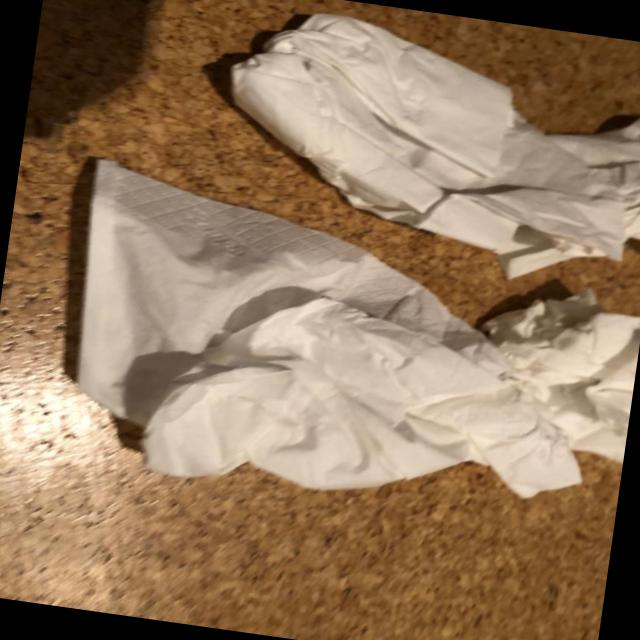organic waste: (52, 160, 640, 541), (195, 0, 640, 301)
